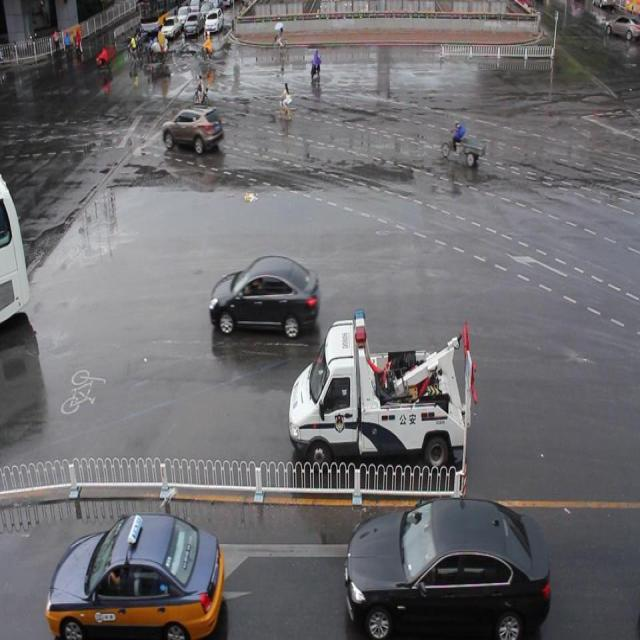bus: (288, 309, 475, 473)
car: (345, 494, 548, 640), (46, 508, 225, 640), (209, 253, 319, 338), (162, 104, 223, 156)
van: (1, 173, 30, 326)
